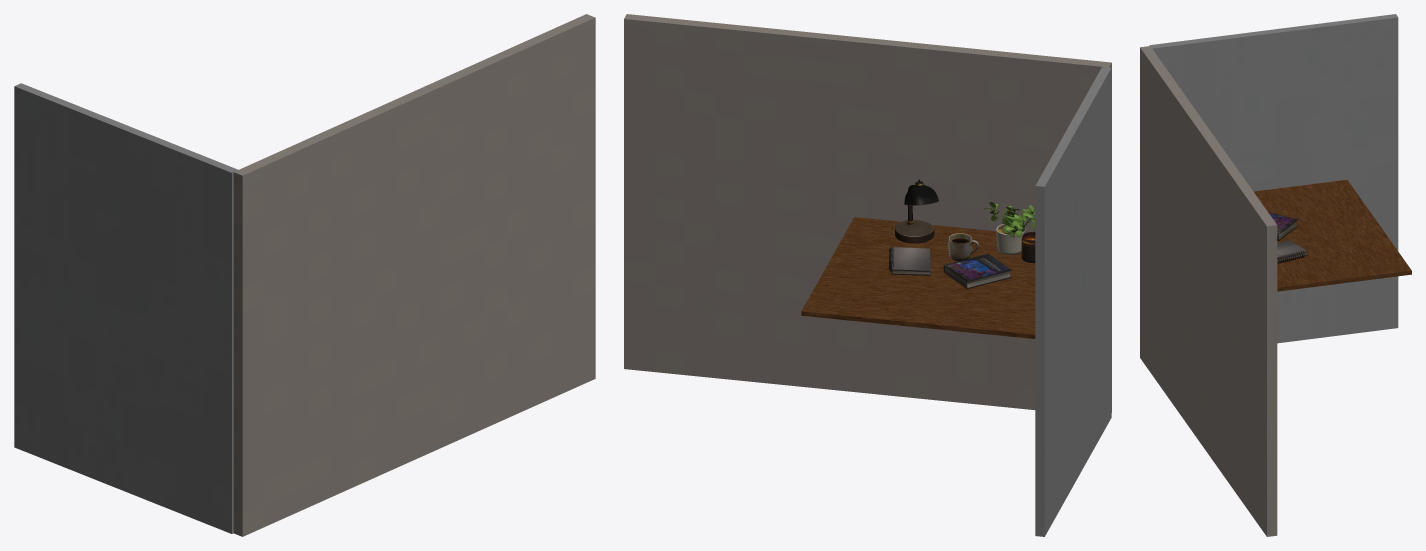
The model's file is ours.glb.
3 renders of one model, left to right at view 1: azimuth 30°, elevation 25°; view 2: azimuth 150°, elevation 25°; view 3: azimuth 270°, elevation 25°, orthographic. The views are drawn at different scales.
Parts seen in each view (by area): view 1: wall_0, wall_1; view 2: wall_0, wall_1, desk_0, obj_book_0, obj_lamp_0, obj_flowerpot_0, obj_notebook_0, obj_mug_0; view 3: wall_0, wall_1, desk_0, obj_notebook_0, obj_book_0.
Part boxes in pixels (<box>): wall_0: <box>233,14,595,536</box>; wall_1: <box>14,83,238,533</box>; wall_0: <box>624,14,1111,412</box>; wall_1: <box>1035,67,1111,536</box>; desk_0: <box>801,217,1035,338</box>; obj_book_0: <box>943,254,1011,288</box>; obj_lamp_0: <box>895,179,938,243</box>; obj_flowerpot_0: <box>983,202,1035,254</box>; obj_notebook_0: <box>889,247,930,275</box>; obj_mug_0: <box>948,233,978,261</box>; wall_0: <box>1140,46,1277,536</box>; wall_1: <box>1149,14,1398,343</box>; desk_0: <box>1254,179,1411,291</box>; obj_notebook_0: <box>1277,240,1307,263</box>; obj_book_0: <box>1268,212,1297,240</box>.
Size of the model in its own units: 2.35 by 1.6 by 1.27.
9 materials, 9 textured.
